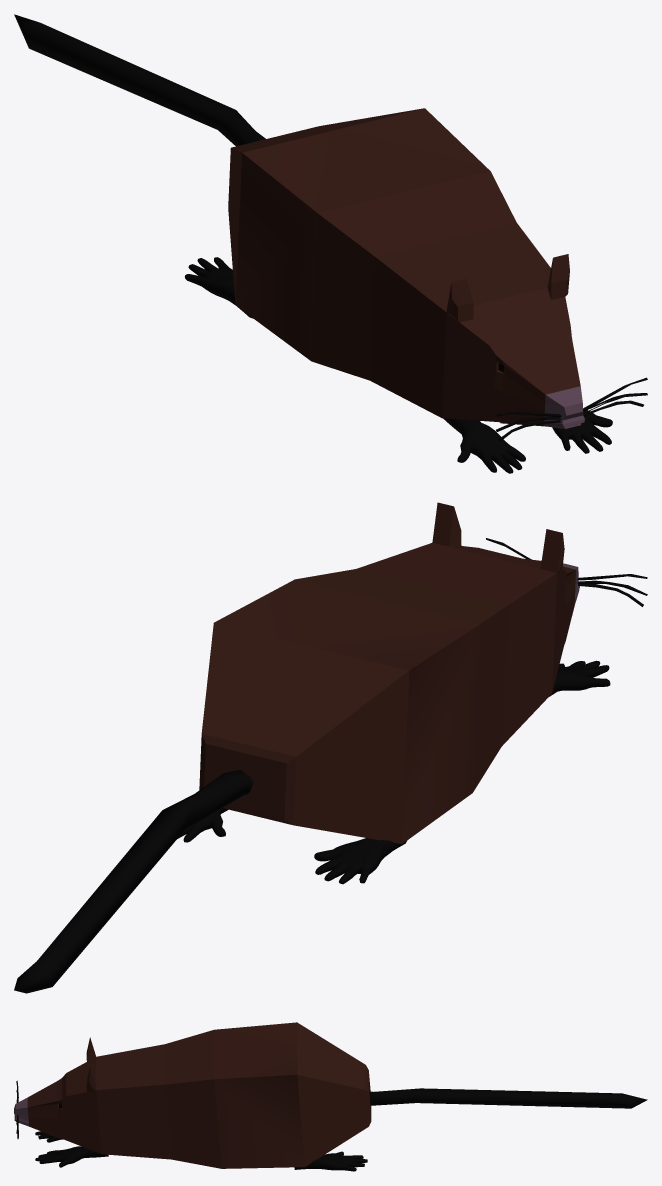
The model's file is Therat.fbx.
3 renders of one model, top to bottom at view 1: azimuth 30°, elevation 25°; view 2: azimuth 150°, elevation 25°; view 3: azimuth 270°, elevation 25°, orthographic. The views are drawn at different scales.
Parts seen in each view (by area): view 1: Cube.001; view 2: Cube.001; view 3: Cube.001.
Boxes of the visible parts, x1,y1,x2,y2 form: Cube.001: [14, 14, 647, 473]; Cube.001: [14, 502, 647, 993]; Cube.001: [14, 1022, 647, 1171].
Size of the model in its own units: 440 by 361 by 2074.
